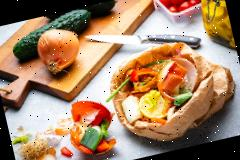organic: (5, 10, 98, 64), (33, 22, 90, 75), (135, 82, 179, 123), (157, 0, 188, 8)
